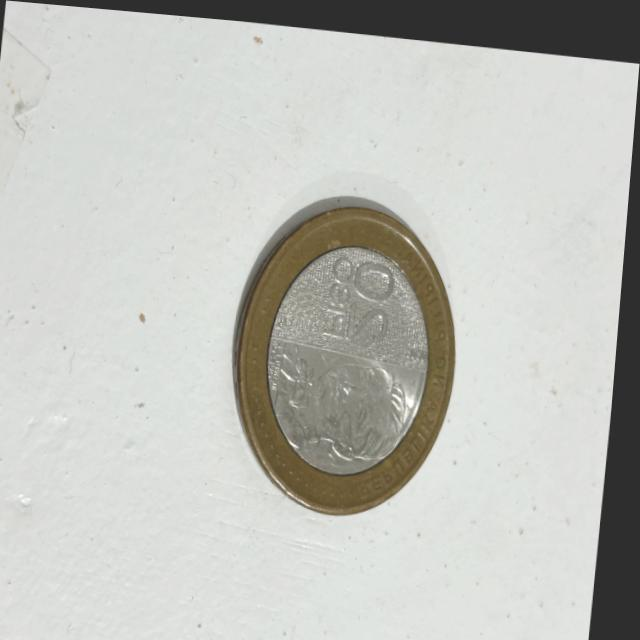20_New_Front: (313, 235, 406, 348)
